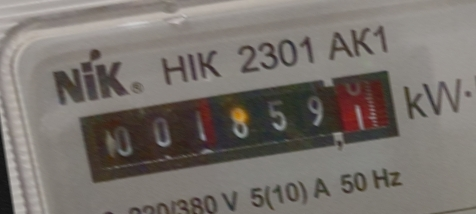0: (110, 122, 135, 160), (149, 114, 173, 150)
1: (192, 107, 208, 144), (350, 101, 367, 133)
5: (265, 96, 290, 134)
8: (227, 104, 251, 141)
9: (303, 92, 327, 129)
screen: (66, 56, 411, 196)
